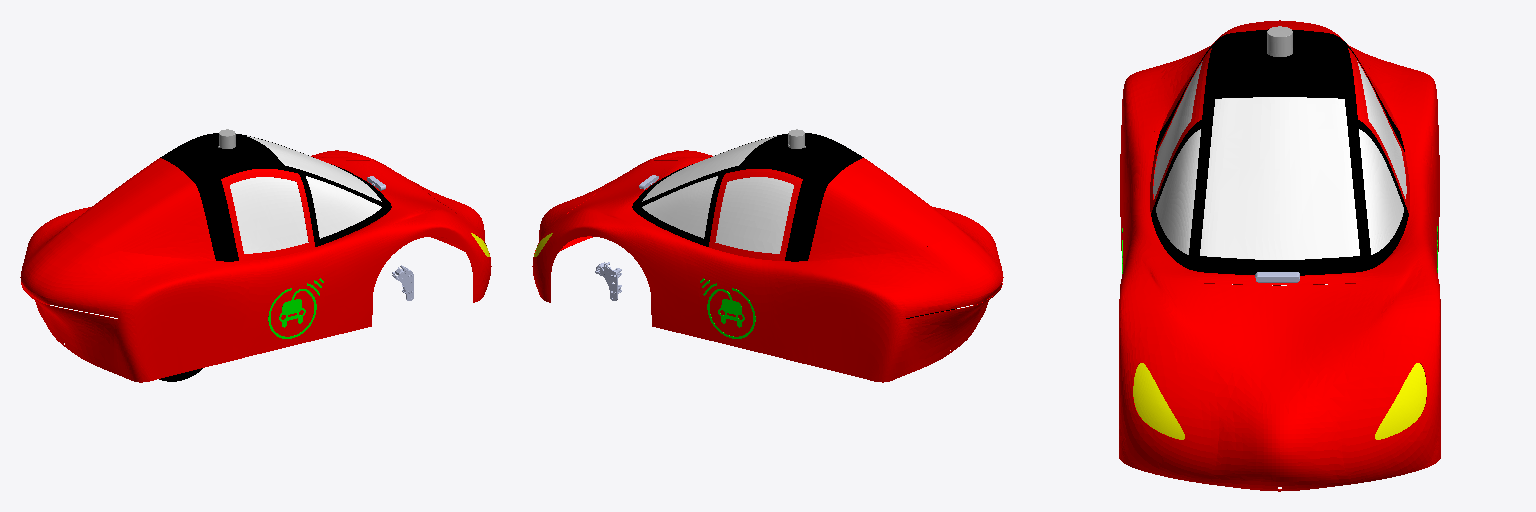
URDF robot description (Shell_car_assembly_red7):
<?xml version="1.0" encoding="utf-8"?>
<!-- This URDF was automatically created by SolidWorks to URDF Exporter! Originally created by [author] ([email redacted]) 
     Commit Version: 1.6.0-4-g7f85cfe  Build Version: 1.6.7995.38578
     For more information, please see http://wiki.ros.org/sw_urdf_exporter -->
<robot
  name="Shell_car_assembly_red7">
  <link
    name="base_link">
    <inertial>
      <origin
        xyz="-0.005 -2.7756E-17 0"
        rpy="0 0 0" />
      <mass
        value="0.002631" />
      <inertia
        ixx="1.1557E-07"
        ixy="-7.1746E-40"
        ixz="-3.2794E-24"
        iyy="7.6295E-08"
        iyz="-1.6479E-24"
        izz="8.3127E-08" />
    </inertial>
    <visual>
      <origin
        xyz="0 0 0"
        rpy="0 0 0" />
      <geometry>
        <mesh
          filename="package://shell_car_model/meshes/visual/base_link.STL" />
      </geometry>
      <material
        name="">
        <color
          rgba="0.79216 0.81961 0.93333 1" />
      </material>
    </visual>
    <collision>
      <origin
        xyz="0 0 0"
        rpy="0 0 0" />
      <geometry>
        <mesh
          filename="package://shell_car_model/meshes/visual/base_link.STL" />
      </geometry>
    </collision>
  </link>
  <link
    name="body_link">
    <inertial>
      <origin
        xyz="-1.1081 -0.0003093 0.56086"
        rpy="0 0 0" />
      <mass
        value="11.145" />
      <inertia
        ixx="2.4883"
        ixy="-0.0050052"
        ixz="0.15659"
        iyy="9.017"
        iyz="0.0057389"
        izz="10.569" />
    </inertial>
    <visual>
      <origin
        xyz="0 0 0"
        rpy="0 0 0" />
      <geometry>
        <mesh
          filename="package://shell_car_model/meshes/visual/body_link.STL" />
      </geometry>
      <material
        name="">
        <color
          rgba="1 0 0 1" />
      </material>
    </visual>
    <collision>
      <origin
        xyz="0 0 0"
        rpy="0 0 0" />
      <geometry>
        <mesh
          filename="package://shell_car_model/meshes/visual/body_link.STL" />
      </geometry>
    </collision>
  </link>
  <joint
    name="body_joint"
    type="fixed">
    <origin
      xyz="0.795 -0.000269495954332816 -0.35"
      rpy="0 0 0" />
    <parent
      link="base_link" />
    <child
      link="body_link" />
    <axis
      xyz="0 0 0" />
  </joint>
  <link
    name="head_light_link">
    <inertial>
      <origin
        xyz="-1.0208 -0.097095 0.40424"
        rpy="0 0 0" />
      <mass
        value="55.61" />
      <inertia
        ixx="13.719"
        ixy="-2.8473"
        ixz="0.77987"
        iyy="37.376"
        iyz="-0.60487"
        izz="41.522" />
    </inertial>
    <visual>
      <origin
        xyz="0 0 0"
        rpy="0 0 0" />
      <geometry>
        <mesh
          filename="package://shell_car_model/meshes/visual/head_light_link.STL" />
      </geometry>
      <material
        name="">
        <color
          rgba="1 1 0 1" />
      </material>
    </visual>
    <collision>
      <origin
        xyz="0 0 0"
        rpy="0 0 0" />
      <geometry>
        <mesh
          filename="package://shell_car_model/meshes/visual/head_light_link.STL" />
      </geometry>
    </collision>
  </link>
  <joint
    name="head_light_joint"
    type="fixed">
    <origin
      xyz="0 0.01 0"
      rpy="0 0 0" />
    <parent
      link="body_link" />
    <child
      link="head_light_link" />
    <axis
      xyz="0 0 0" />
  </joint>
  <link
    name="roof_link">
    <inertial>
      <origin
        xyz="-0.8825 -0.010096 1.043"
        rpy="0 0 0" />
      <mass
        value="1.407" />
      <inertia
        ixx="0.15829"
        ixy="5.2669E-05"
        ixz="0.05681"
        iyy="0.27408"
        iyz="-3.102E-05"
        izz="0.33368" />
    </inertial>
    <visual>
      <origin
        xyz="0 0 0"
        rpy="0 0 0" />
      <geometry>
        <mesh
          filename="package://shell_car_model/meshes/visual/roof_link.STL" />
      </geometry>
      <material
        name="">
        <color
          rgba="0 0 0 1" />
      </material>
    </visual>
    <collision>
      <origin
        xyz="0 0 0"
        rpy="0 0 0" />
      <geometry>
        <mesh
          filename="package://shell_car_model/meshes/visual/roof_link.STL" />
      </geometry>
    </collision>
  </link>
  <joint
    name="roof_joint"
    type="fixed">
    <origin
      xyz="0 0.01 0"
      rpy="0 0 0" />
    <parent
      link="body_link" />
    <child
      link="roof_link" />
    <axis
      xyz="0 0 0" />
  </joint>
  <link
    name="window_link">
    <inertial>
      <origin
        xyz="-1.0208 -0.097095 0.40424"
        rpy="0 0 0" />
      <mass
        value="55.61" />
      <inertia
        ixx="13.719"
        ixy="-2.8473"
        ixz="0.77987"
        iyy="37.376"
        iyz="-0.60487"
        izz="41.522" />
    </inertial>
    <visual>
      <origin
        xyz="0 0 0"
        rpy="0 0 0" />
      <geometry>
        <mesh
          filename="package://shell_car_model/meshes/visual/window_link.STL" />
      </geometry>
      <material
        name="">
        <color
          rgba="1 1 1 1" />
      </material>
    </visual>
    <collision>
      <origin
        xyz="0 0 0"
        rpy="0 0 0" />
      <geometry>
        <mesh
          filename="package://shell_car_model/meshes/visual/window_link.STL" />
      </geometry>
    </collision>
  </link>
  <joint
    name="windows_joint"
    type="fixed">
    <origin
      xyz="0 0.01 0"
      rpy="0 0 0" />
    <parent
      link="body_link" />
    <child
      link="window_link" />
    <axis
      xyz="0 0 0" />
  </joint>
  <link
    name="velodyne_link">
    <inertial>
      <origin
        xyz="-9.782E-05 -2.4304E-06 0.0058316"
        rpy="0 0 0" />
      <mass
        value="0.69573" />
      <inertia
        ixx="0.00087851"
        ixy="8.3578E-11"
        ixz="8.3325E-08"
        iyy="0.00087898"
        iyz="-6.8679E-08"
        izz="0.00088986" />
    </inertial>
    <visual>
      <origin
        xyz="0 0 0"
        rpy="0 0 0" />
      <geometry>
        <mesh
          filename="package://shell_car_model/meshes/visual/velodyne_link.STL" />
      </geometry>
      <material
        name="">
        <color
          rgba="0.75294 0.75294 0.75294 1" />
      </material>
    </visual>
    <collision>
      <origin
        xyz="0 0 0"
        rpy="0 0 0" />
      <geometry>
        <mesh
          filename="package://shell_car_model/meshes/visual/velodyne_link.STL" />
      </geometry>
    </collision>
  </link>
  <joint
    name="velodyne_joint"
    type="fixed">
    <origin
      xyz="-0.20788907689465 0 0.924414176635994"
      rpy="0 0 0" />
    <parent
      link="base_link" />
    <child
      link="velodyne_link" />
    <axis
      xyz="0 0 0" />
  </joint>
  <link
    name="zed_link">
    <inertial>
      <origin
        xyz="-0.019269 8.9835E-07 -0.00018107"
        rpy="0 0 0" />
      <mass
        value="0.17032" />
      <inertia
        ixx="0.00038294"
        ixy="3.2819E-09"
        ixz="-6.4524E-08"
        iyy="3.2574E-05"
        iyz="1.3858E-09"
        izz="0.00039062" />
    </inertial>
    <visual>
      <origin
        xyz="0 0 0"
        rpy="0 0 0" />
      <geometry>
        <mesh
          filename="package://shell_car_model/meshes/visual/zed_link.STL" />
      </geometry>
      <material
        name="">
        <color
          rgba="0.79216 0.81961 0.93333 1" />
      </material>
    </visual>
    <collision>
      <origin
        xyz="0 0 0"
        rpy="0 0 0" />
      <geometry>
        <mesh
          filename="package://shell_car_model/meshes/visual/zed_link.STL" />
      </geometry>
    </collision>
  </link>
  <joint
    name="zed_camera"
    type="fixed">
    <origin
      xyz="0.846755951668386 -0.00896850625550727 0.400392536179619"
      rpy="0 0 0" />
    <parent
      link="base_link" />
    <child
      link="zed_link" />
    <axis
      xyz="0 0 0" />
  </joint>
  <link
    name="chassis_link">
    <inertial>
      <origin
        xyz="-0.83026 -0.0082545 0.3792"
        rpy="0 0 0" />
      <mass
        value="19.425" />
      <inertia
        ixx="0.83621"
        ixy="0.007865"
        ixz="0.0038851"
        iyy="0.76001"
        iyz="-0.001533"
        izz="1.2681" />
    </inertial>
    <visual>
      <origin
        xyz="0 0 0"
        rpy="0 0 0" />
      <geometry>
        <mesh
          filename="package://shell_car_model/meshes/visual/chassis_link.STL" />
      </geometry>
      <material
        name="">
        <color
          rgba="0.79216 0.81961 0.93333 1" />
      </material>
    </visual>
    <collision>
      <origin
        xyz="0 0 0"
        rpy="0 0 0" />
      <geometry>
        <mesh
          filename="package://shell_car_model/meshes/visual/chassis_link.STL" />
      </geometry>
    </collision>
  </link>
  <joint
    name="chassis_joint"
    type="fixed">
    <origin
      xyz="0.795 0.00973050404566719 -0.35"
      rpy="0 0 0" />
    <parent
      link="base_link" />
    <child
      link="chassis_link" />
    <axis
      xyz="0 0 0" />
  </joint>
  <link
    name="motorized_wheel_link">
    <inertial>
      <origin
        xyz="-7.6189E-09 0.00049969 2.0025E-08"
        rpy="0 0 0" />
      <mass
        value="13.706" />
      <inertia
        ixx="0.31075"
        ixy="6.4562E-10"
        ixz="3.5503E-08"
        iyy="0.59943"
        iyz="4.8225E-10"
        izz="0.31075" />
    </inertial>
    <visual>
      <origin
        xyz="0 0 0"
        rpy="0 0 0" />
      <geometry>
        <mesh
          filename="package://shell_car_model/meshes/visual/motorized_wheel_link.STL" />
      </geometry>
      <material
        name="">
        <color
          rgba="0 0 0 1" />
      </material>
    </visual>
    <collision>
      <origin
        xyz="0 0 0"
        rpy="0 0 0" />
      <geometry>
        <mesh
          filename="package://shell_car_model/meshes/visual/motorized_wheel_link.STL" />
      </geometry>
    </collision>
  </link>
  <joint
    name="motorized_joint"
    type="continuous">
    <origin
      xyz="-1.6 -0.459730504045689 0.280000000000002"
      rpy="3.14159265358979 0 0" />
    <parent
      link="chassis_link" />
    <child
      link="motorized_wheel_link" />
    <axis
      xyz="0 -1 0" />
  </joint>
  <link
    name="rl_wheel_link">
    <inertial>
      <origin
        xyz="-0.00044029 0.0029377 -9.5239E-07"
        rpy="0 0 0" />
      <mass
        value="2.7917" />
      <inertia
        ixx="0.060714"
        ixy="-4.9284E-07"
        ixz="-5.8675E-06"
        iyy="0.119"
        iyz="-1.0058E-08"
        izz="0.060947" />
    </inertial>
    <visual>
      <origin
        xyz="0 0 0"
        rpy="0 0 0" />
      <geometry>
        <mesh
          filename="package://shell_car_model/meshes/visual/rl_wheel_link.STL" />
      </geometry>
      <material
        name="">
        <color
          rgba="0.25098 0.25098 0.25098 1" />
      </material>
    </visual>
    <collision>
      <origin
        xyz="0 0 0"
        rpy="0 0 0" />
      <geometry>
        <mesh
          filename="package://shell_car_model/meshes/visual/rl_wheel_link.STL" />
      </geometry>
    </collision>
  </link>
  <joint
    name="rl_wheel_free_joint"
    type="continuous">
    <origin
      xyz="-1.60000000000002 0.441318123012537 0.280000000000035"
      rpy="0 0 0" />
    <parent
      link="chassis_link" />
    <child
      link="rl_wheel_link" />
    <axis
      xyz="0 -1 0" />
  </joint>
  <link
    name="fr_wheel_assembly_link">
    <inertial>
      <origin
        xyz="-0.030198 0.042549 -0.033908"
        rpy="0 0 0" />
      <mass
        value="0.38576" />
      <inertia
        ixx="0.00051798"
        ixy="1.4237E-06"
        ixz="-5.7336E-05"
        iyy="0.00059032"
        iyz="3.7245E-06"
        izz="0.00020504" />
    </inertial>
    <visual>
      <origin
        xyz="0 0 0"
        rpy="0 0 0" />
      <geometry>
        <mesh
          filename="package://shell_car_model/meshes/visual/fr_wheel_assembly_link.STL" />
      </geometry>
      <material
        name="">
        <color
          rgba="0.79608 0.82353 0.93725 1" />
      </material>
    </visual>
    <collision>
      <origin
        xyz="0 0 0"
        rpy="0 0 0" />
      <geometry>
        <mesh
          filename="package://shell_car_model/meshes/visual/fr_wheel_assembly_link.STL" />
      </geometry>
    </collision>
  </link>
  <joint
    name="fr_steering_joint"
    type="continuous">
    <origin
      xyz="0 -0.427784504045892 0.273443999999984"
      rpy="3.14159265358979 0 0" />
    <parent
      link="chassis_link" />
    <child
      link="fr_wheel_assembly_link" />
    <axis
      xyz="0 0 -1" />
  </joint>
  <link
    name="fr_wheel_link">
    <inertial>
      <origin
        xyz="-0.00016814 -0.001315 0.00040624"
        rpy="0 0 0" />
      <mass
        value="2.7493" />
      <inertia
        ixx="0.060607"
        ixy="1.8426E-07"
        ixz="7.998E-05"
        iyy="0.11894"
        iyz="-4.5741E-07"
        izz="0.060437" />
    </inertial>
    <visual>
      <origin
        xyz="0 0 0"
        rpy="0 0 0" />
      <geometry>
        <mesh
          filename="package://shell_car_model/meshes/visual/fr_wheel_link.STL" />
      </geometry>
      <material
        name="">
        <color
          rgba="0.25098 0.25098 0.25098 1" />
      </material>
    </visual>
    <collision>
      <origin
        xyz="0 0 0"
        rpy="0 0 0" />
      <geometry>
        <mesh
          filename="package://shell_car_model/meshes/visual/fr_wheel_link.STL" />
      </geometry>
    </collision>
  </link>
  <joint
    name="fr_wheel_joint"
    type="continuous">
    <origin
      xyz="0 0.130251372941784 -0.00655799999984102"
      rpy="0 0 0" />
    <parent
      link="fr_wheel_assembly_link" />
    <child
      link="fr_wheel_link" />
    <axis
      xyz="0 1 0" />
  </joint>
  <link
    name="fl_wheel_assmebly_link">
    <inertial>
      <origin
        xyz="0.030219 0.042548 0.033927"
        rpy="0 0 0" />
      <mass
        value="0.38549" />
      <inertia
        ixx="0.00051797"
        ixy="-1.4271E-06"
        ixz="-5.7336E-05"
        iyy="0.00059031"
        iyz="-3.7245E-06"
        izz="0.00020503" />
    </inertial>
    <visual>
      <origin
        xyz="0 0 0"
        rpy="0 0 0" />
      <geometry>
        <mesh
          filename="package://shell_car_model/meshes/visual/fl_wheel_assmebly_link.STL" />
      </geometry>
      <material
        name="">
        <color
          rgba="0.79216 0.81961 0.93333 1" />
      </material>
    </visual>
    <collision>
      <origin
        xyz="0 0 0"
        rpy="0 0 0" />
      <geometry>
        <mesh
          filename="package://shell_car_model/meshes/visual/fl_wheel_assmebly_link.STL" />
      </geometry>
    </collision>
  </link>
  <joint
    name="fl_steering_joint"
    type="continuous">
    <origin
      xyz="0 0.408323495954088 0.273443999999995"
      rpy="0 0 0" />
    <parent
      link="chassis_link" />
    <child
      link="fl_wheel_assmebly_link" />
    <axis
      xyz="0 0 1" />
  </joint>
  <link
    name="fl_wheel_link">
    <inertial>
      <origin
        xyz="-0.00043669 -0.0013387 -5.4169E-05"
        rpy="0 0 0" />
      <mass
        value="2.7471" />
      <inertia
        ixx="0.060408"
        ixy="4.8975E-07"
        ixz="-2.5088E-05"
        iyy="0.11894"
        iyz="5.5544E-08"
        izz="0.060636" />
    </inertial>
    <visual>
      <origin
        xyz="0 0 0"
        rpy="0 0 0" />
      <geometry>
        <mesh
          filename="package://shell_car_model/meshes/visual/fl_wheel_link.STL" />
      </geometry>
      <material
        name="">
        <color
          rgba="0.25098 0.25098 0.25098 1" />
      </material>
    </visual>
    <collision>
      <origin
        xyz="0 0 0"
        rpy="0 0 0" />
      <geometry>
        <mesh
          filename="package://shell_car_model/meshes/visual/fl_wheel_link.STL" />
      </geometry>
    </collision>
  </link>
  <joint
    name="fl_wheel_joint"
    type="continuous">
    <origin
      xyz="0 0.131851372941806 0.00655799999984386"
      rpy="0 0 0" />
    <parent
      link="fl_wheel_assmebly_link" />
    <child
      link="fl_wheel_link" />
    <axis
      xyz="0 1 0" />
  </joint>
  <link
    name="arl_link">
    <inertial>
      <origin
        xyz="0.37403 0.32999 0.0005"
        rpy="0 0 0" />
      <mass
        value="0.038446" />
      <inertia
        ixx="0.00023481"
        ixy="2.2948E-06"
        ixz="2.1446E-12"
        iyy="0.00024131"
        iyz="1.0126E-12"
        izz="0.00047612" />
    </inertial>
    <visual>
      <origin
        xyz="0 0 0"
        rpy="0 0 0" />
      <geometry>
        <mesh
          filename="package://shell_car_model/meshes/visual/arl_link.STL" />
      </geometry>
      <material
        name="">
        <color
          rgba="0 1 0 1" />
      </material>
    </visual>
    <collision>
      <origin
        xyz="0 0 0"
        rpy="0 0 0" />
      <geometry>
        <mesh
          filename="package://shell_car_model/meshes/visual/arl_link.STL" />
      </geometry>
    </collision>
  </link>
  <joint
    name="arl_link_joint"
    type="fixed">
    <origin
      xyz="-0.4668 0.61421 -0.31411"
      rpy="1.573 0 0.0026084" />
    <parent
      link="base_link" />
    <child
      link="arl_link" />
    <axis
      xyz="0 0 0" />
  </joint>
  <link
    name="arl2_link">
    <inertial>
      <origin
        xyz="0 0 0"
        rpy="0 0 0" />
      <mass
        value="0" />
      <inertia
        ixx="0"
        ixy="0"
        ixz="0"
        iyy="0"
        iyz="0"
        izz="0" />
    </inertial>
    <visual>
      <origin
        xyz="0 0 0"
        rpy="0 0 0" />
      <geometry>
        <mesh
          filename="package://shell_car_model/meshes/visual/arl2_link.STL" />
      </geometry>
      <material
        name="">
        <color
          rgba="0 1 0 1" />
      </material>
    </visual>
    <collision>
      <origin
        xyz="0 0 0"
        rpy="0 0 0" />
      <geometry>
        <mesh
          filename="package://shell_car_model/meshes/visual/arl2_link.STL" />
      </geometry>
    </collision>
  </link>
  <joint
    name="arl2_link_joint"
    type="fixed">
    <origin
      xyz="-0.46679 -0.61321 -0.31412"
      rpy="1.5686 0 -0.0026084" />
    <parent
      link="base_link" />
    <child
      link="arl2_link" />
    <axis
      xyz="0 0 0" />
  </joint>
</robot>

--- What the picture shows (computed from the rendered views, not written in the file) ---
3 views of the same robot in one strip: view 1: azimuth 30°, elevation 25°; view 2: azimuth 150°, elevation 25°; view 3: azimuth 270°, elevation 25° (orthographic).
Robot: Shell_car_assembly_red7 — 16 links, 15 joints (6 continuous, 9 fixed); root link base_link; default pose: all joints at 0.
Visible links, largest first — view 1: body_link, window_link, roof_link, arl2_link; view 2: body_link, window_link, roof_link, arl_link; view 3: body_link, window_link, roof_link, head_light_link, velodyne_link.
Link boxes in pixels (x1,y1,x2,y2): body_link: (20, 150, 491, 382); window_link: (230, 136, 381, 253); roof_link: (160, 133, 391, 261); arl2_link: (268, 278, 323, 338); body_link: (532, 150, 1003, 382); window_link: (642, 136, 793, 253); roof_link: (632, 133, 863, 261); arl_link: (700, 278, 755, 338); body_link: (1119, 20, 1440, 491); window_link: (1153, 61, 1406, 259); roof_link: (1151, 29, 1408, 275); head_light_link: (1133, 363, 1426, 439); velodyne_link: (1267, 26, 1292, 56).
Bounding box of the posed robot: 3.16 × 1.26 × 1.32 m (x, y, z).
Meshes: 16 distinct files referenced, 12 mesh visuals loaded (12 binary STL); not drawn: 4 (reference not matched to a file when rendering).